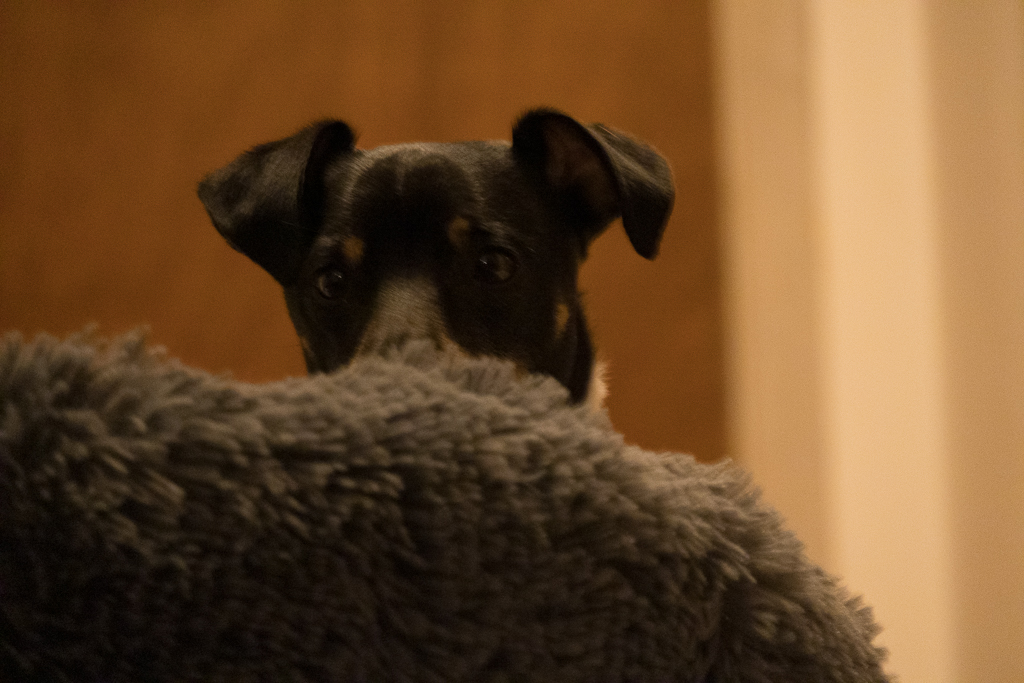Dog: (188, 98, 688, 461)
